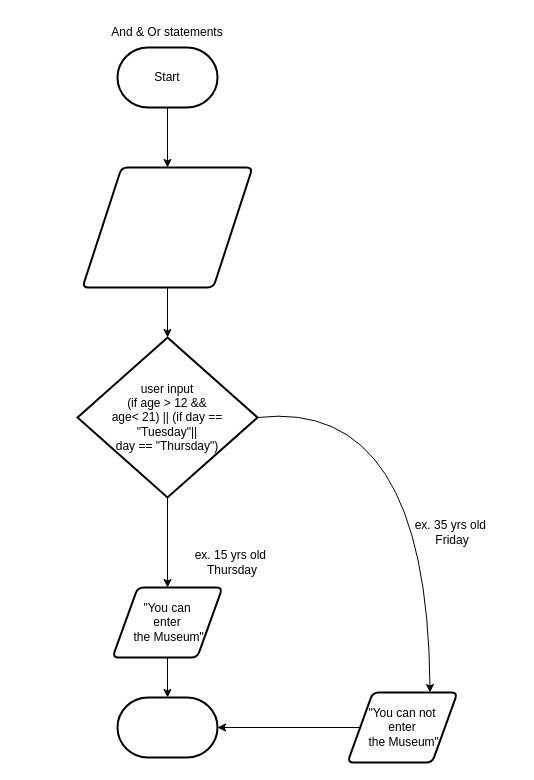
This 534x780 diagram has some shape labels left out. Here are the shapes that lost their labels. From the top down, the centre of each, then its label:
At (167,227): "How old are you? What day of the week is it?".
At (167,727): "End".
